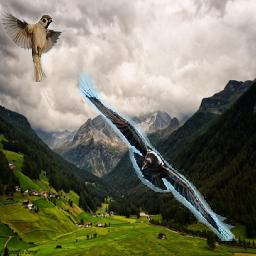Crow: (77, 73, 236, 242)
Sparrow: (2, 8, 67, 83)
